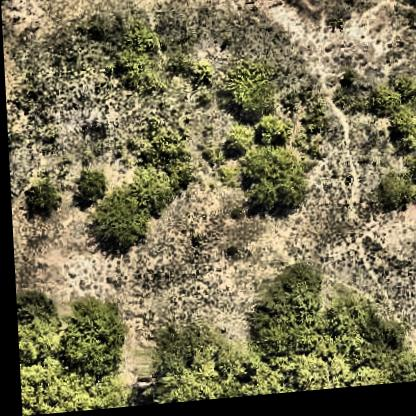tree-top: (134, 328, 241, 405), (244, 270, 327, 354), (53, 296, 125, 379), (16, 362, 125, 416), (326, 304, 397, 370), (244, 353, 343, 400), (236, 148, 301, 218), (82, 192, 146, 258), (219, 68, 277, 126), (12, 289, 53, 366), (126, 167, 172, 219), (116, 22, 158, 71), (371, 177, 407, 222), (382, 113, 415, 153), (21, 179, 56, 215), (344, 366, 389, 393), (253, 118, 288, 152), (367, 90, 400, 123), (73, 171, 104, 201), (405, 359, 416, 385)
